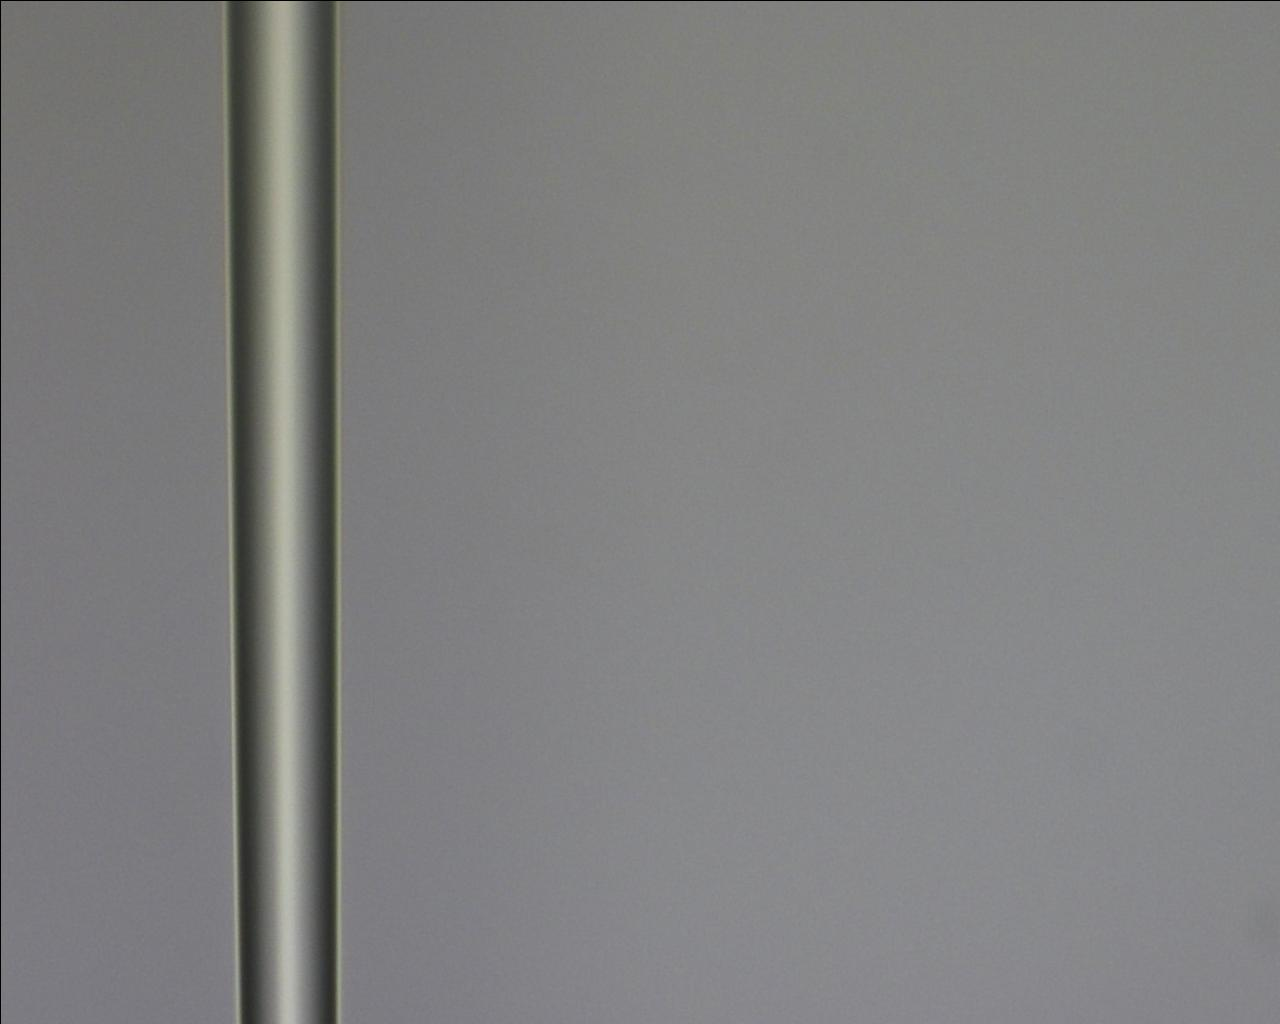fiber: (367, 0, 934, 1024)
